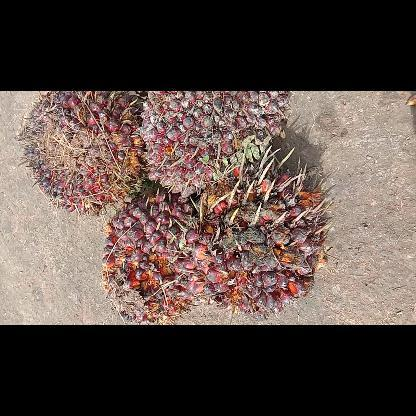Kurang masak: (134, 91, 296, 199), (16, 92, 142, 218)
TBS masak: (182, 168, 334, 318), (99, 190, 211, 324)
